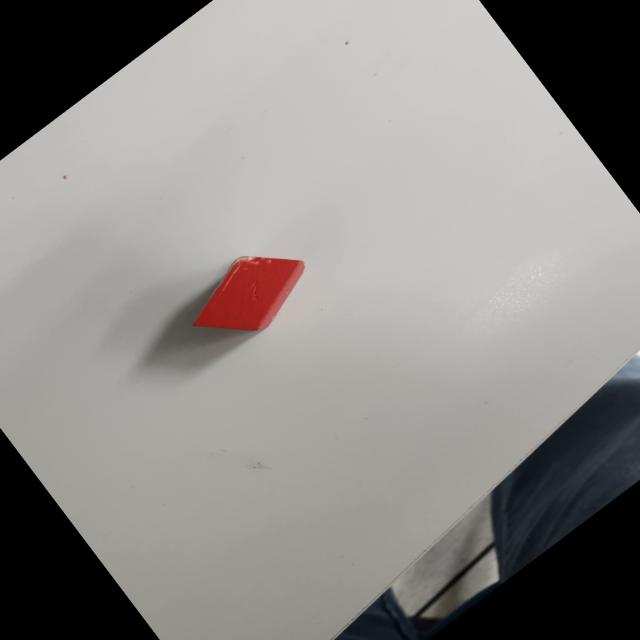broken: (173, 225, 324, 365)
